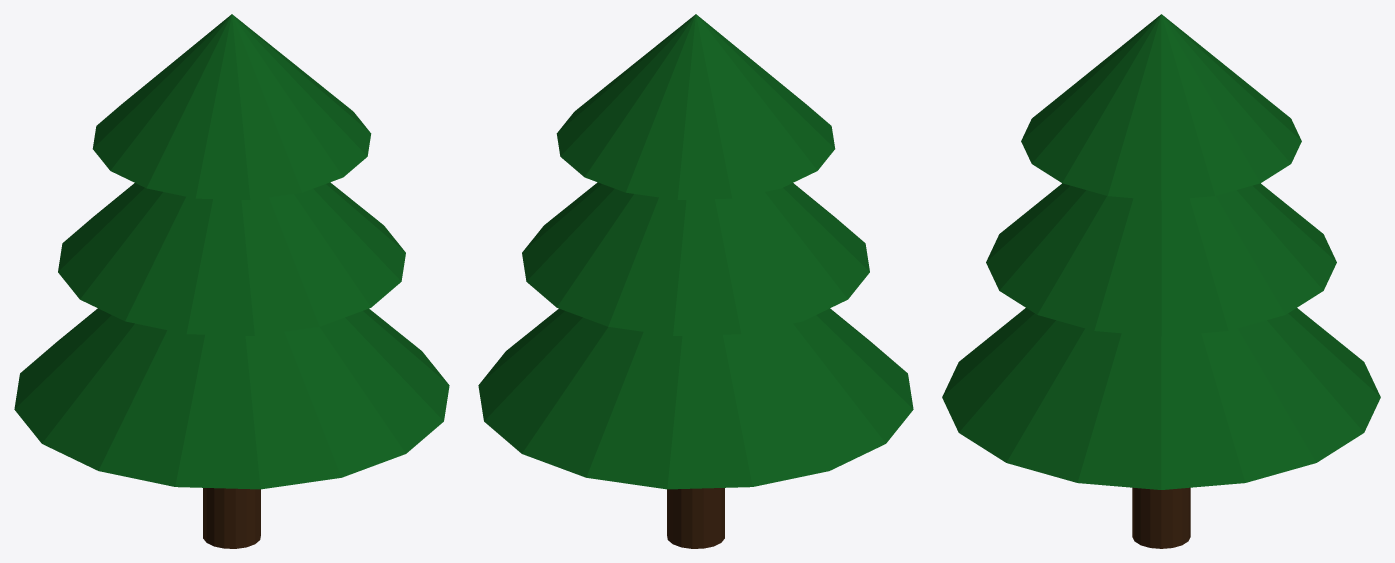
The model's file is tree.glb.
3 renders of one model, left to right at view 1: azimuth 30°, elevation 25°; view 2: azimuth 150°, elevation 25°; view 3: azimuth 270°, elevation 25°, orthographic.
Parts seen in each view (by area): view 1: Tree; view 2: Tree; view 3: Tree.
Part boxes in pixels (x1,y1,x2,y2): Tree: (14,14,449,548); Tree: (478,14,913,548); Tree: (942,14,1380,548).
Size of the model in its own units: 3 by 3.94 by 3.
